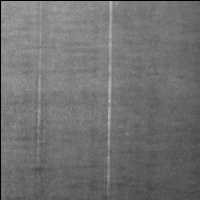scratches: (102, 1, 117, 197)
